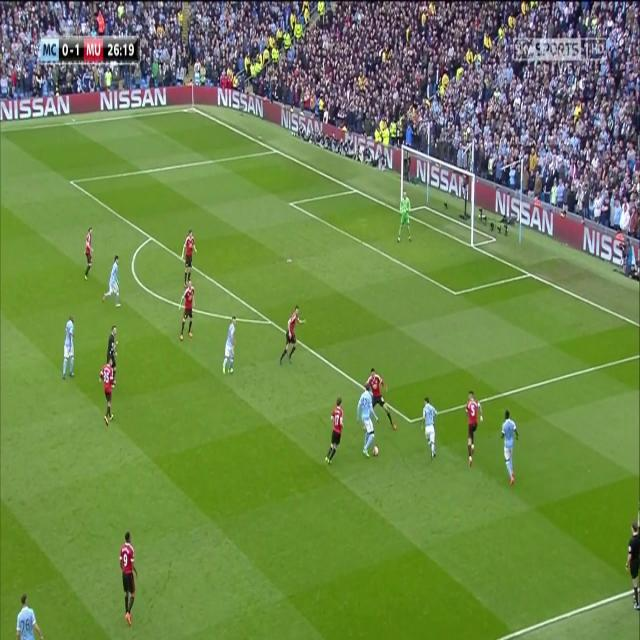Ball: (370, 442, 381, 459)
Goalkeeper: (397, 189, 412, 241)
Player: (368, 364, 399, 434), (119, 530, 141, 628), (278, 304, 308, 368), (501, 408, 522, 491), (465, 388, 485, 474), (355, 384, 378, 458), (322, 396, 344, 469), (420, 393, 442, 464), (98, 354, 117, 427), (177, 278, 197, 344), (101, 253, 122, 312), (14, 589, 38, 640), (221, 314, 239, 378), (62, 312, 77, 385), (180, 228, 198, 288), (83, 225, 96, 285)
Referee: (625, 509, 640, 610), (106, 324, 120, 366)
